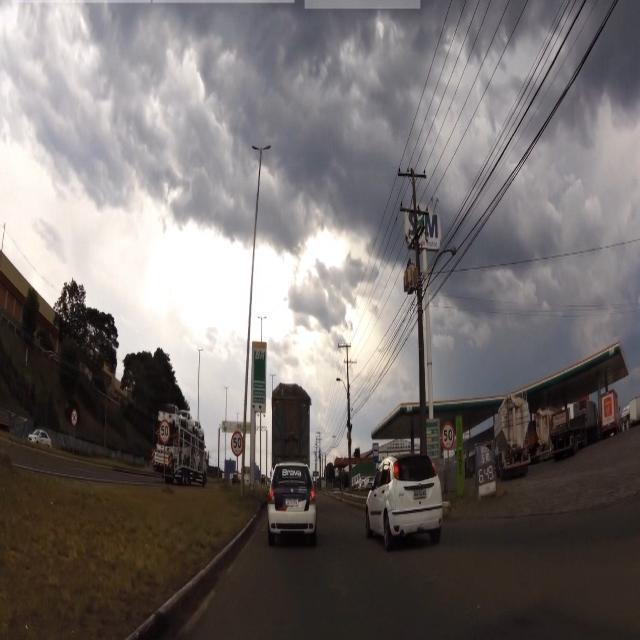R-19: (441, 424, 454, 451), (232, 431, 243, 459), (159, 420, 172, 442)
